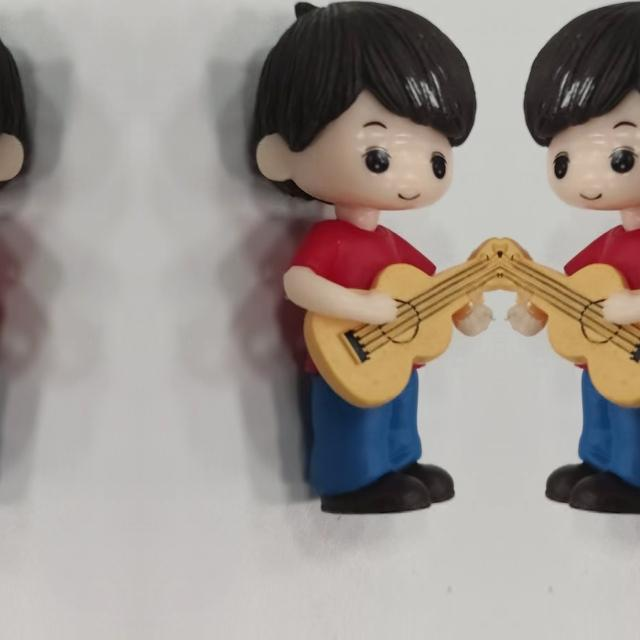man cloth: (260, 222, 468, 374), (532, 222, 640, 374), (0, 222, 20, 374)
man head: (242, 0, 478, 216), (522, 0, 640, 216), (0, 0, 38, 216)
trousers: (300, 366, 466, 526), (534, 366, 640, 526)
